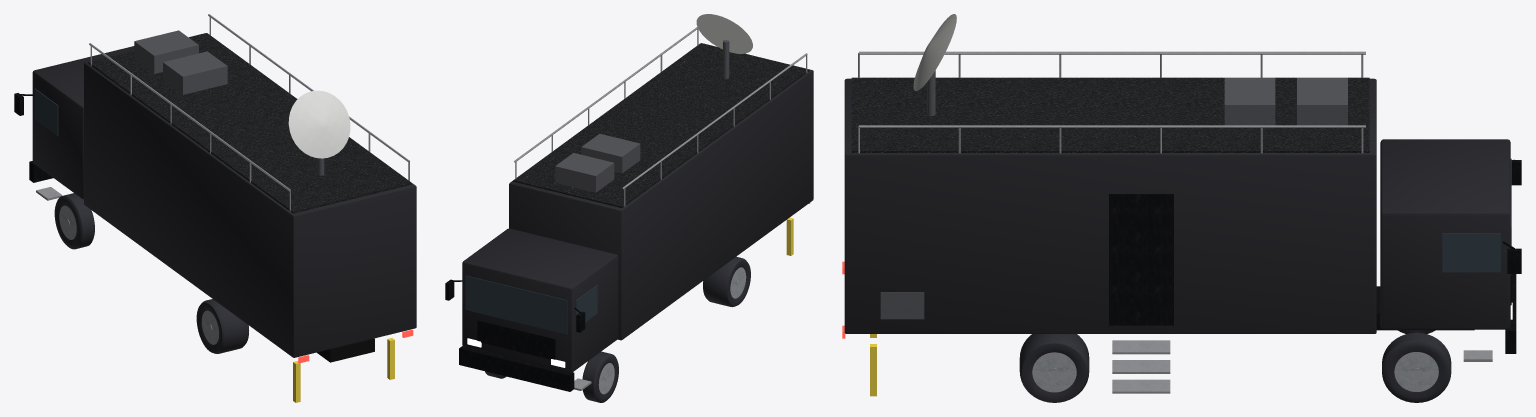
The model's file is ob_van_black.gltf.
3 renders of one model, left to right at view 1: azimuth 30°, elevation 25°; view 2: azimuth 150°, elevation 25°; view 3: azimuth 270°, elevation 25°, orthographic. The views are drawn at different scales.
Visible parts, largest first — view 1: ob_van_black; view 2: ob_van_black; view 3: ob_van_black.
Part boxes in pixels (left/top/right/bottom): ob_van_black: left=14, top=14, right=416, bottom=402; ob_van_black: left=445, top=14, right=813, bottom=402; ob_van_black: left=842, top=14, right=1521, bottom=402.
Bounding box in the file's own units: 3.16 × 5.29 × 9.38.
Materials: 15 (9 with a texture image).
